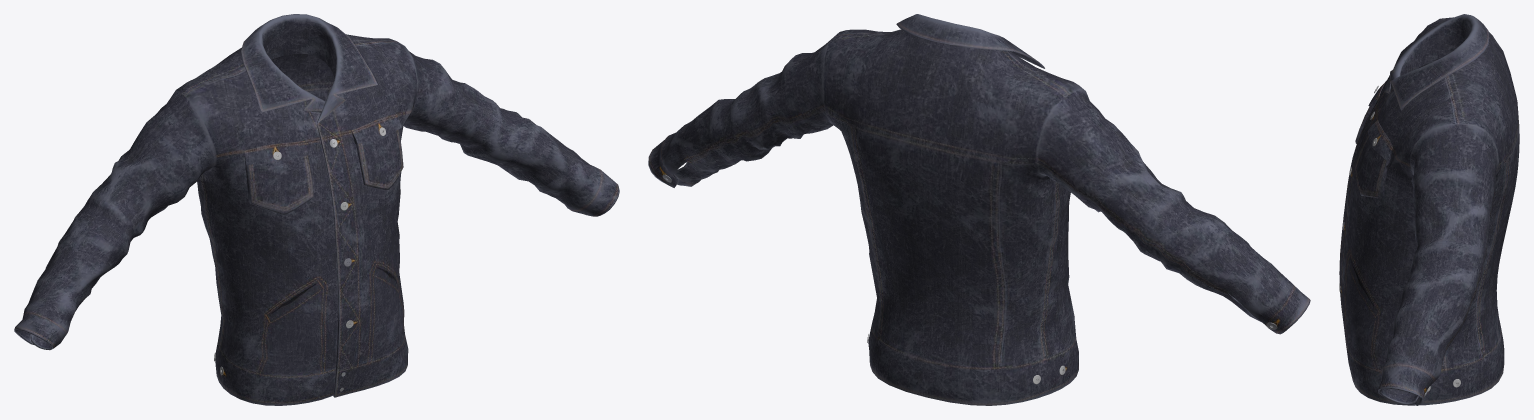
The model's file is denim-jacket.glb.
The picture shows the model from 3 angles, left to right: view 1: azimuth 30°, elevation 25°; view 2: azimuth 150°, elevation 25°; view 3: azimuth 270°, elevation 25°; orthographic projection. The views are drawn at different scales.
Parts seen in each view (by area): view 1: defaultMaterial.002; view 2: defaultMaterial.002; view 3: defaultMaterial.002.
Part boxes in pixels (x1,y1,x2,y2): defaultMaterial.002: (14,14,619,405); defaultMaterial.002: (648,14,1310,405); defaultMaterial.002: (1339,14,1519,405).
Bounding box in the file's own units: 5.55 × 2.97 × 1.43.
1 material, 1 textured.
